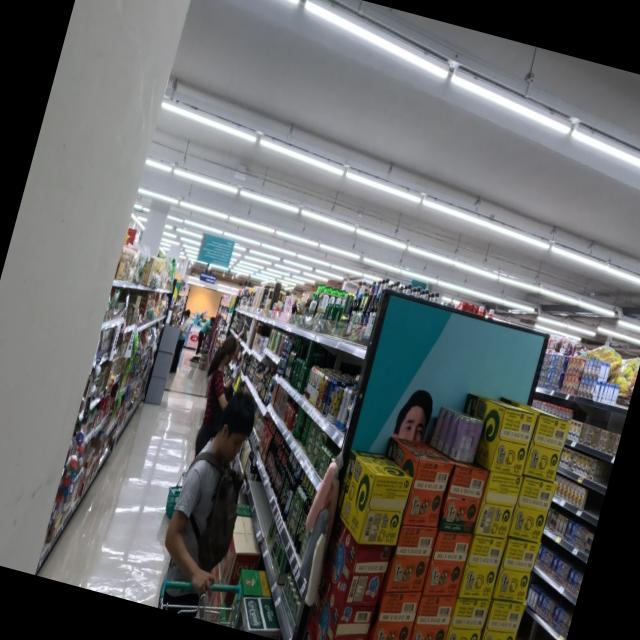shoplifting: (188, 328, 250, 454)
